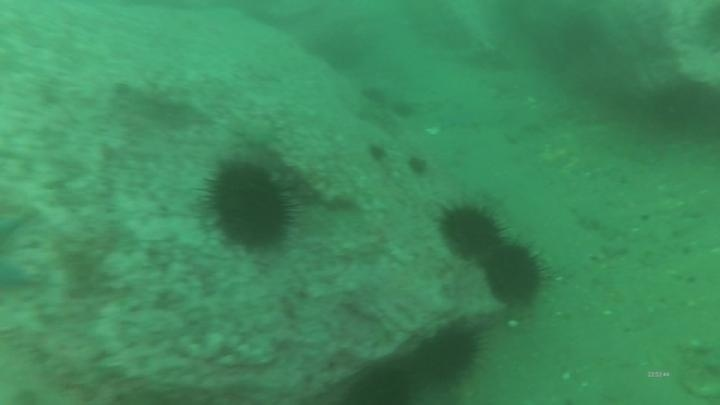echinus: (201, 157, 298, 253), (481, 238, 550, 309), (414, 320, 486, 388), (646, 78, 718, 143), (436, 198, 509, 261), (342, 362, 418, 405), (555, 11, 605, 61), (405, 153, 431, 179), (365, 141, 390, 165)
